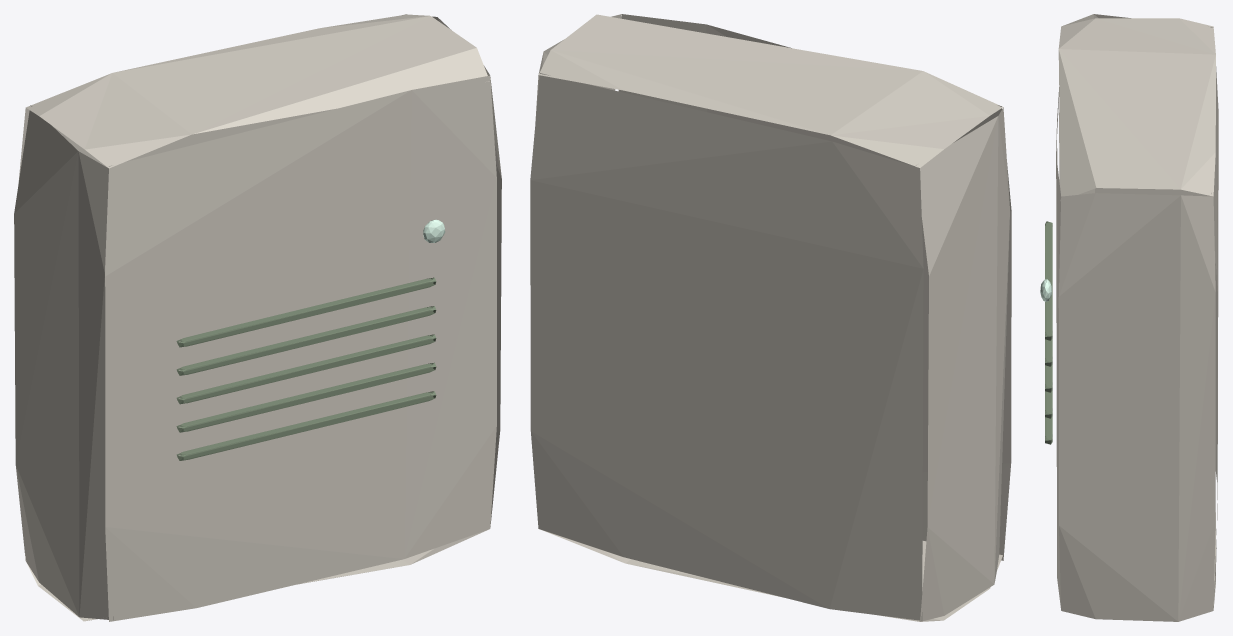
The model's file is good.glb.
The picture shows the model from 3 angles, left to right: view 1: azimuth 30°, elevation 25°; view 2: azimuth 150°, elevation 25°; view 3: azimuth 270°, elevation 25°; orthographic projection. The views are drawn at different scales.
Parts seen in each view (by area): view 1: Native component 0, Native component 2; view 2: Native component 0; view 3: Native component 0, Native component 2.
Part boxes in pixels (x1,y1,x2,y2): Native component 0: [14, 14, 501, 621]; Native component 2: [176, 277, 436, 460]; Native component 0: [530, 14, 1011, 621]; Native component 0: [1056, 14, 1218, 621]; Native component 2: [1045, 221, 1052, 444].
Size of the model in its own units: 0.6446 by 0.7324 by 0.2679.
